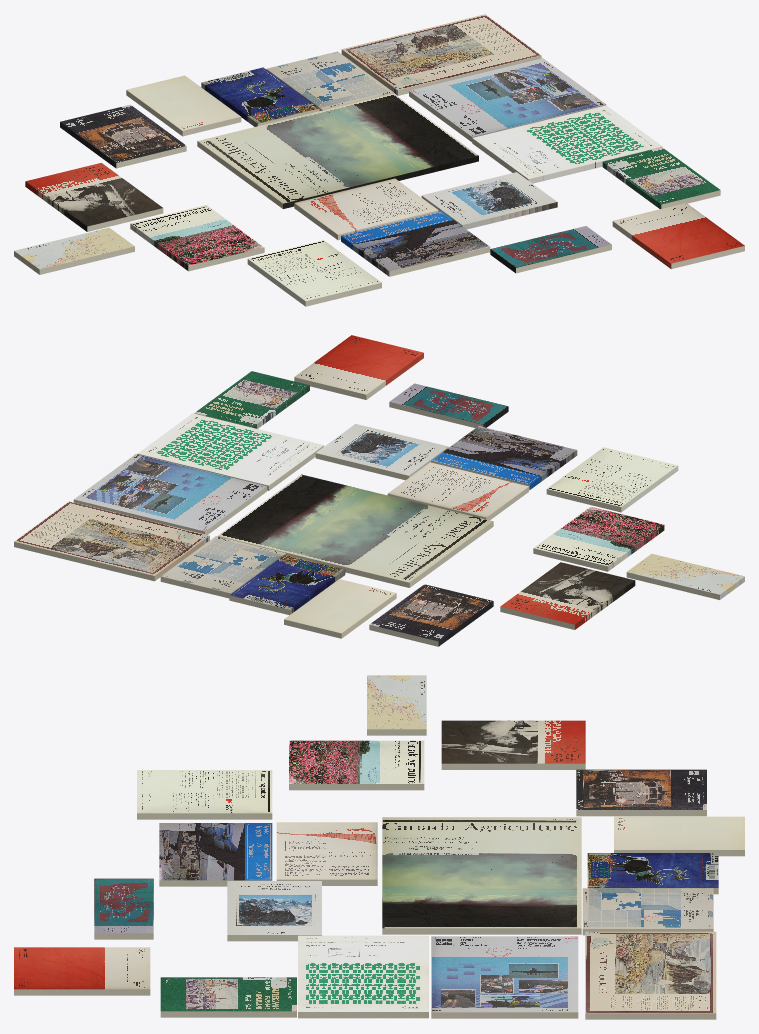
File: vintage_canadian_books_18_512x512_psx_retro.glb
3 views of the same model, one above another, from view 1: azimuth 30°, elevation 25°; view 2: azimuth 150°, elevation 25°; view 3: azimuth 270°, elevation 25° (orthographic). The views are drawn at different scales.
Visible parts, largest first — view 1: Vintage Canadian Books; view 2: Vintage Canadian Books; view 3: Vintage Canadian Books.
Part boxes in pixels (<box>): Vintage Canadian Books: <box>14,14,744,306</box>; Vintage Canadian Books: <box>14,335,744,646</box>; Vintage Canadian Books: <box>14,675,744,1019</box>.
Bounding box in the file's own units: 2.93 × 0.0258 × 2.68.
Materials: 1 (1 with a texture image).
